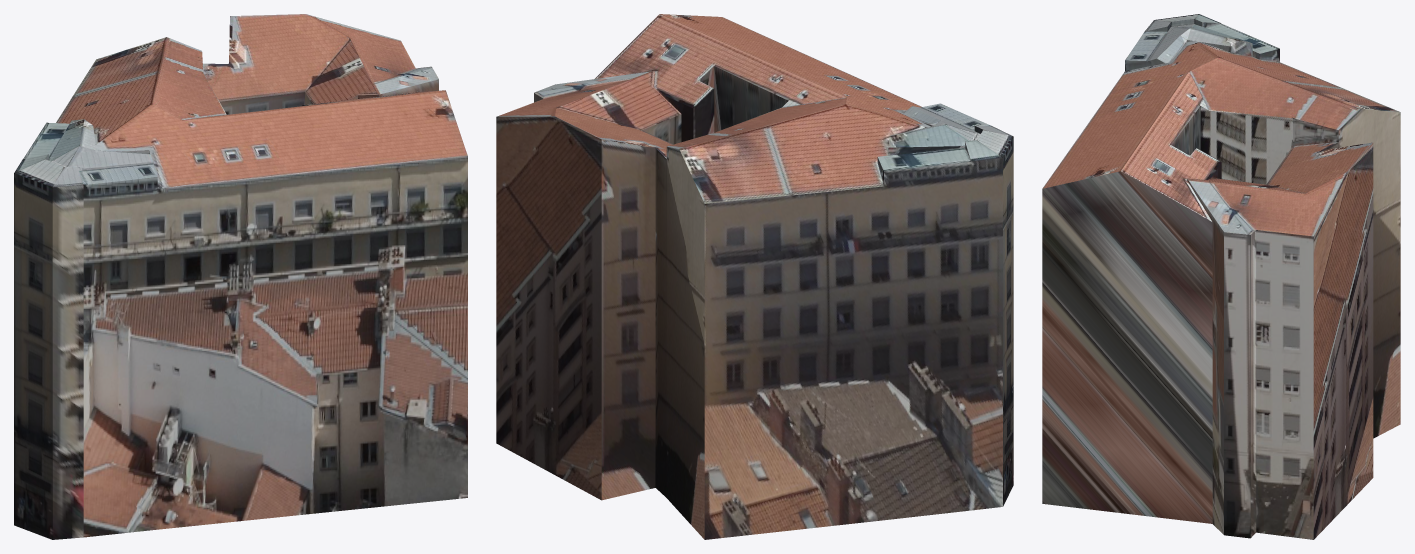
3 views of the same model, side by side, from view 1: azimuth 30°, elevation 25°; view 2: azimuth 150°, elevation 25°; view 3: azimuth 270°, elevation 25° (orthographic). The views are drawn at different scales.
Visible parts, largest first — view 1: Z_UP; view 2: Z_UP; view 3: Z_UP.
Boxes of the visible parts, bbox=[...] form: Z_UP: bbox=[14, 14, 467, 539]; Z_UP: bbox=[496, 14, 1013, 539]; Z_UP: bbox=[1042, 14, 1400, 539].
Bounding box in the file's own units: 37.49 × 30.14 × 28.17.
2 materials, 1 textured.
